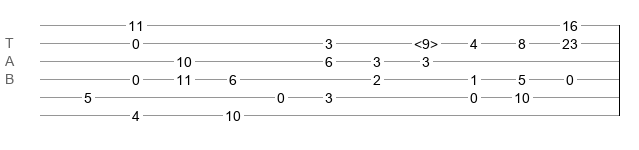0: (132, 36, 140, 46), (132, 72, 140, 82), (277, 90, 285, 100), (470, 90, 478, 100), (566, 72, 574, 82)
1: (470, 72, 478, 82)
10: (176, 54, 192, 64), (225, 108, 241, 118), (514, 90, 530, 100)
11: (128, 18, 144, 28), (176, 72, 192, 82)
16: (562, 18, 578, 28)
2: (373, 72, 381, 82)
23: (562, 36, 578, 46)
3: (325, 90, 333, 100), (325, 36, 333, 46), (373, 54, 381, 64), (422, 54, 430, 64)
4: (132, 108, 140, 118), (470, 36, 478, 46)
5: (84, 90, 92, 100), (518, 72, 526, 82)
6: (229, 72, 237, 82), (325, 54, 333, 64)
8: (518, 36, 526, 46)
harmonic: (414, 36, 438, 46)
